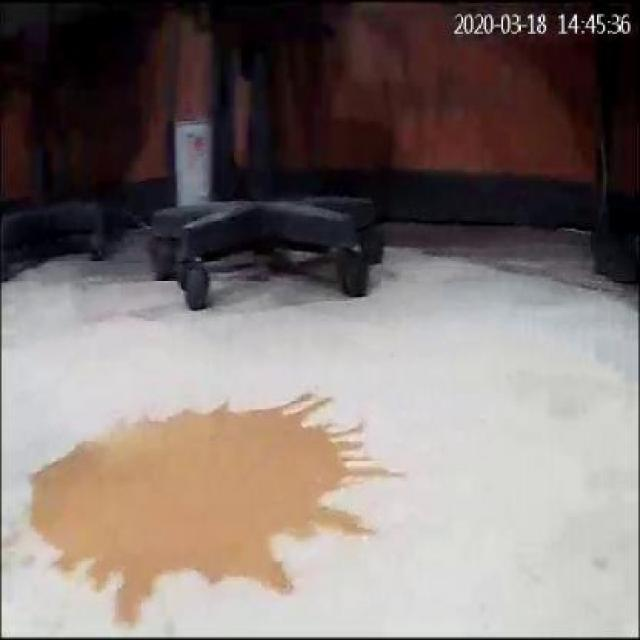spill: (32, 386, 400, 625)
